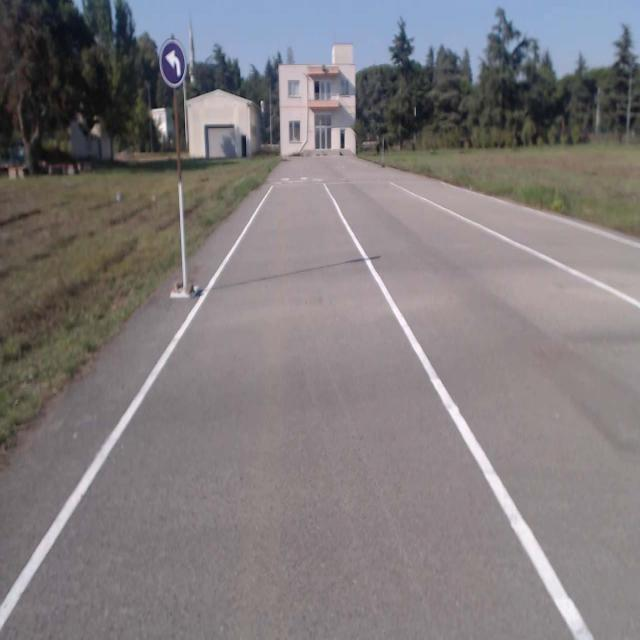sol: (159, 38, 187, 87)
